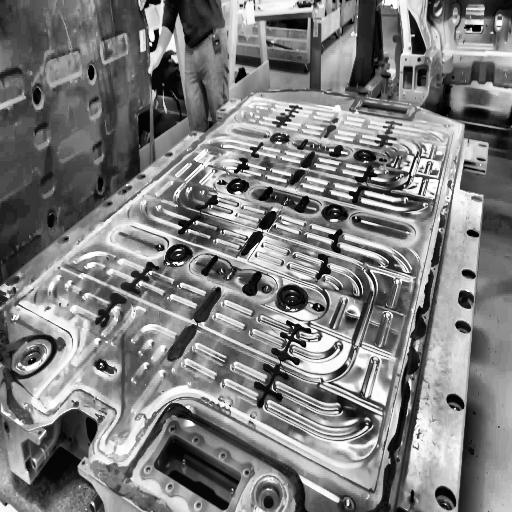b_casing: (1, 87, 489, 512)
